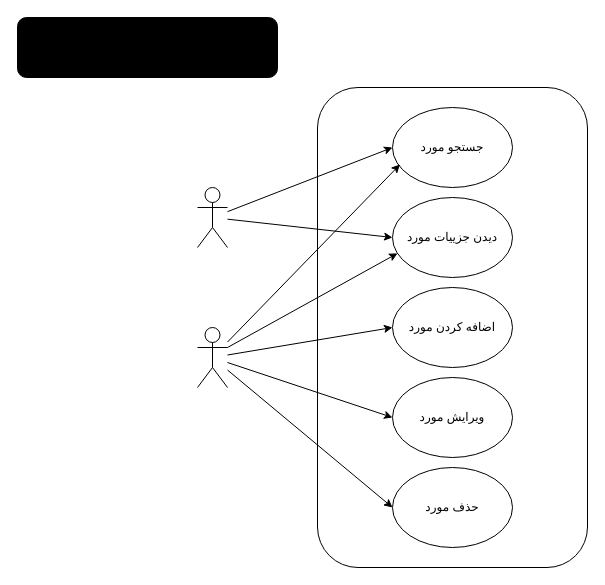
This 605x585 diagram has some shape labels left out. Each missing label, with the box of its shape:
ادمین: (196, 326, 228, 388)
نمودار مورد کاربر: (16, 16, 278, 78)
کاربر: (196, 186, 228, 248)
